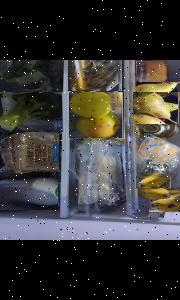Brocoli: (0, 92, 64, 132)
Humus: (136, 60, 168, 82)
Leche: (0, 177, 58, 210)
Lechuga/Endivia: (0, 81, 18, 124)
Manzana: (69, 92, 123, 138)
Pan de sandwich: (0, 132, 59, 172)
Pera: (134, 92, 180, 124), (134, 77, 180, 103)
Pina: (68, 60, 122, 91)
Plátano: (139, 187, 180, 199), (135, 176, 170, 188), (148, 199, 180, 212)
